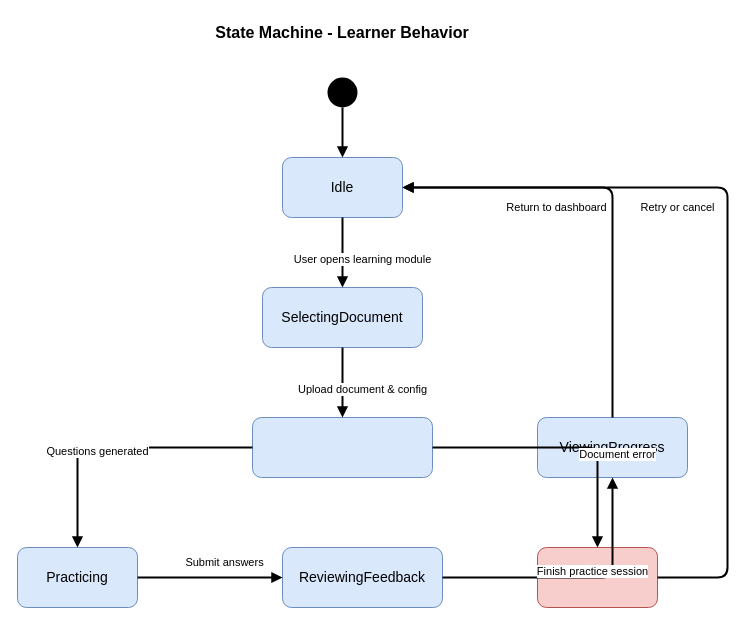
Image size: 754x625. Some labels were removed from this diagram. Each missing label, with the centre of its shape:
Error: the point at 597,577
WaitingForProcessing: the point at 342,447
